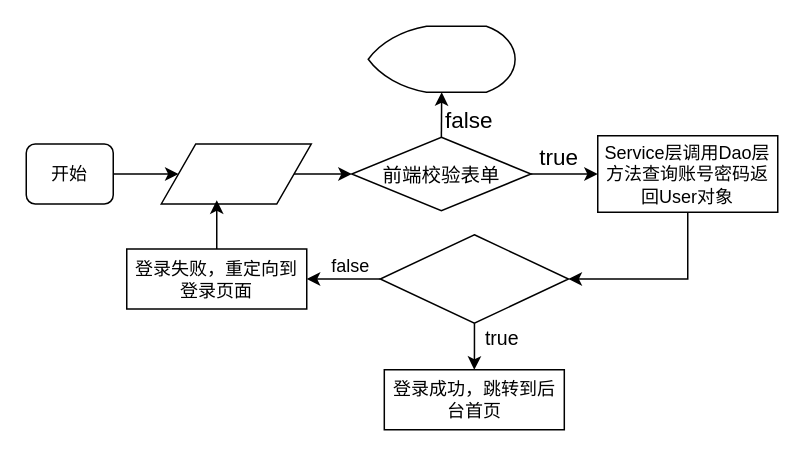
Some shapes in this 804 by 456 pixel diagram are drawn without their labels. The box of each missing label's shape, as (x1, y1, x2, y2) in pixels:
User对象不为空: (379, 233, 568, 323)
账号密码: (160, 142, 311, 204)
页面报错提示: (367, 25, 515, 92)
